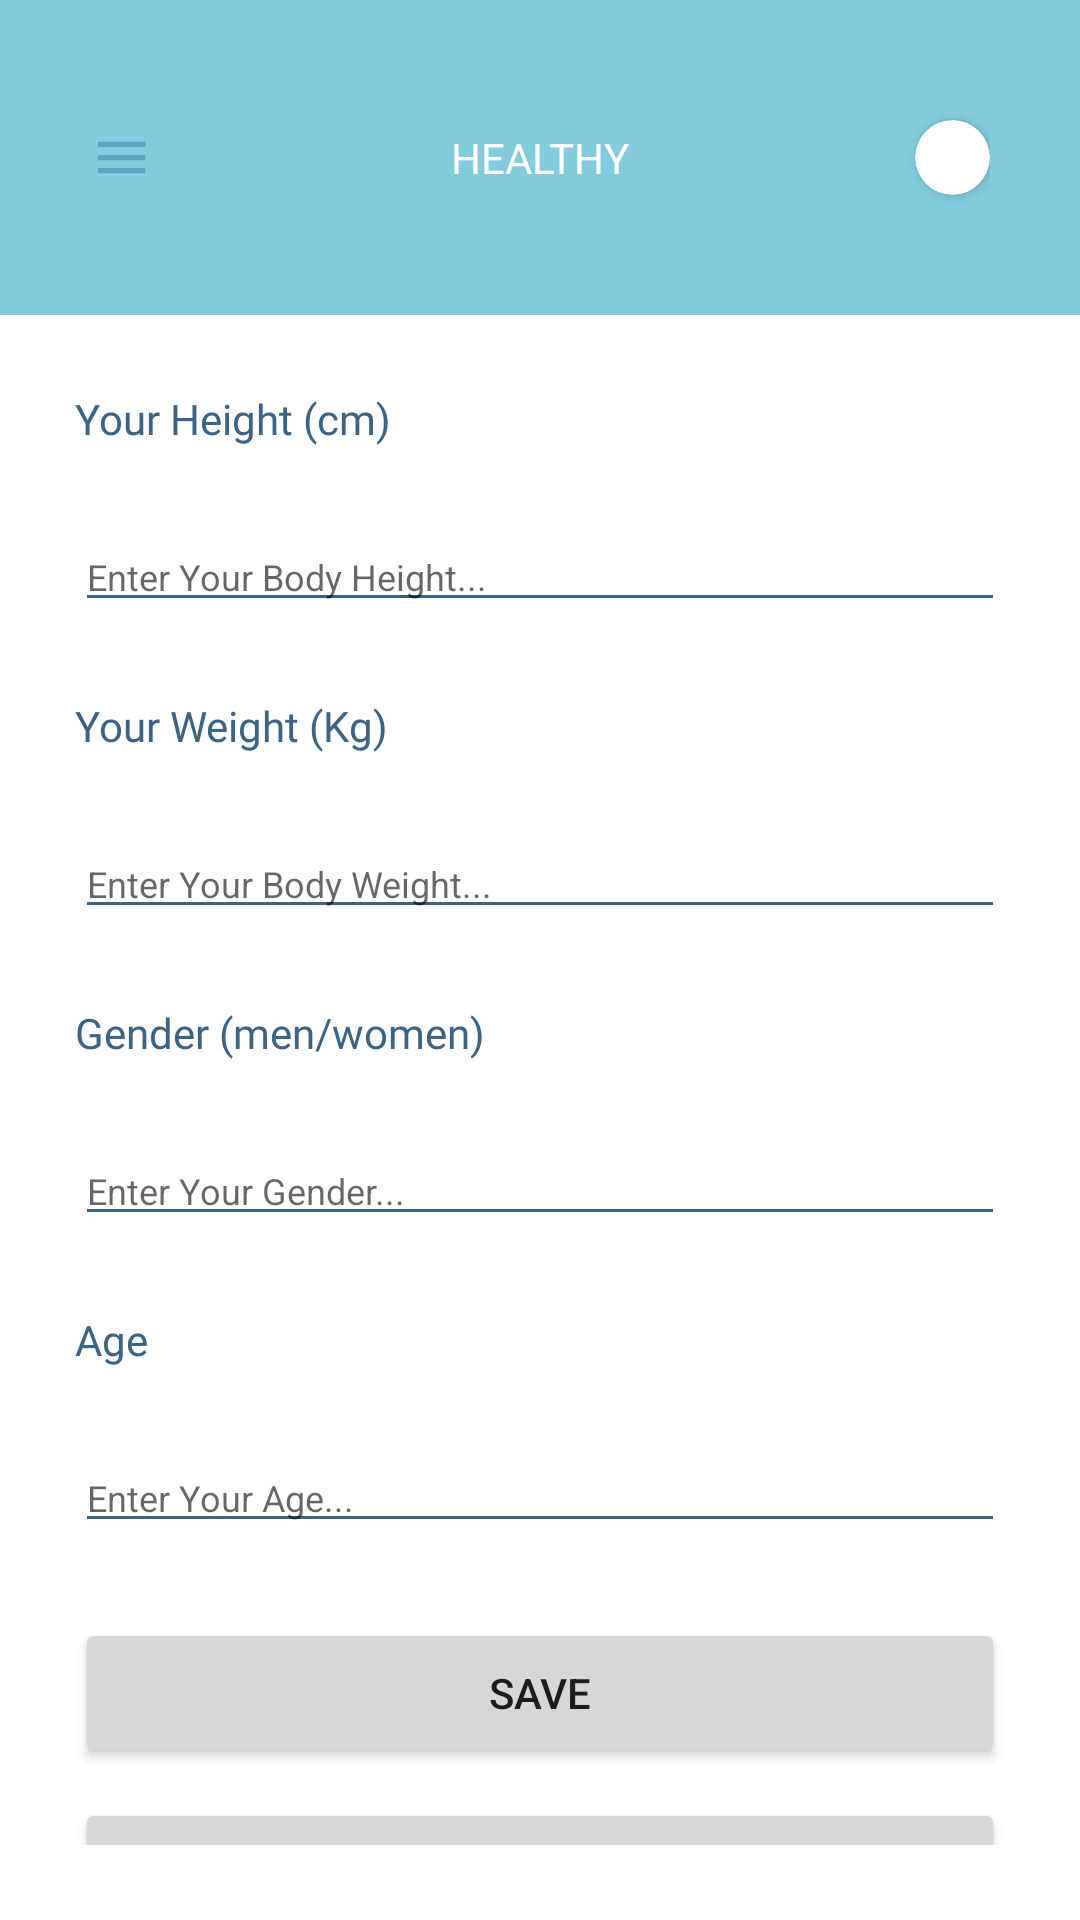

Icon bounding boxes for this 1080w x 1920h phone screenshot, format box(x1, y1, x2, y2):
menu: box(98, 142, 145, 173)
